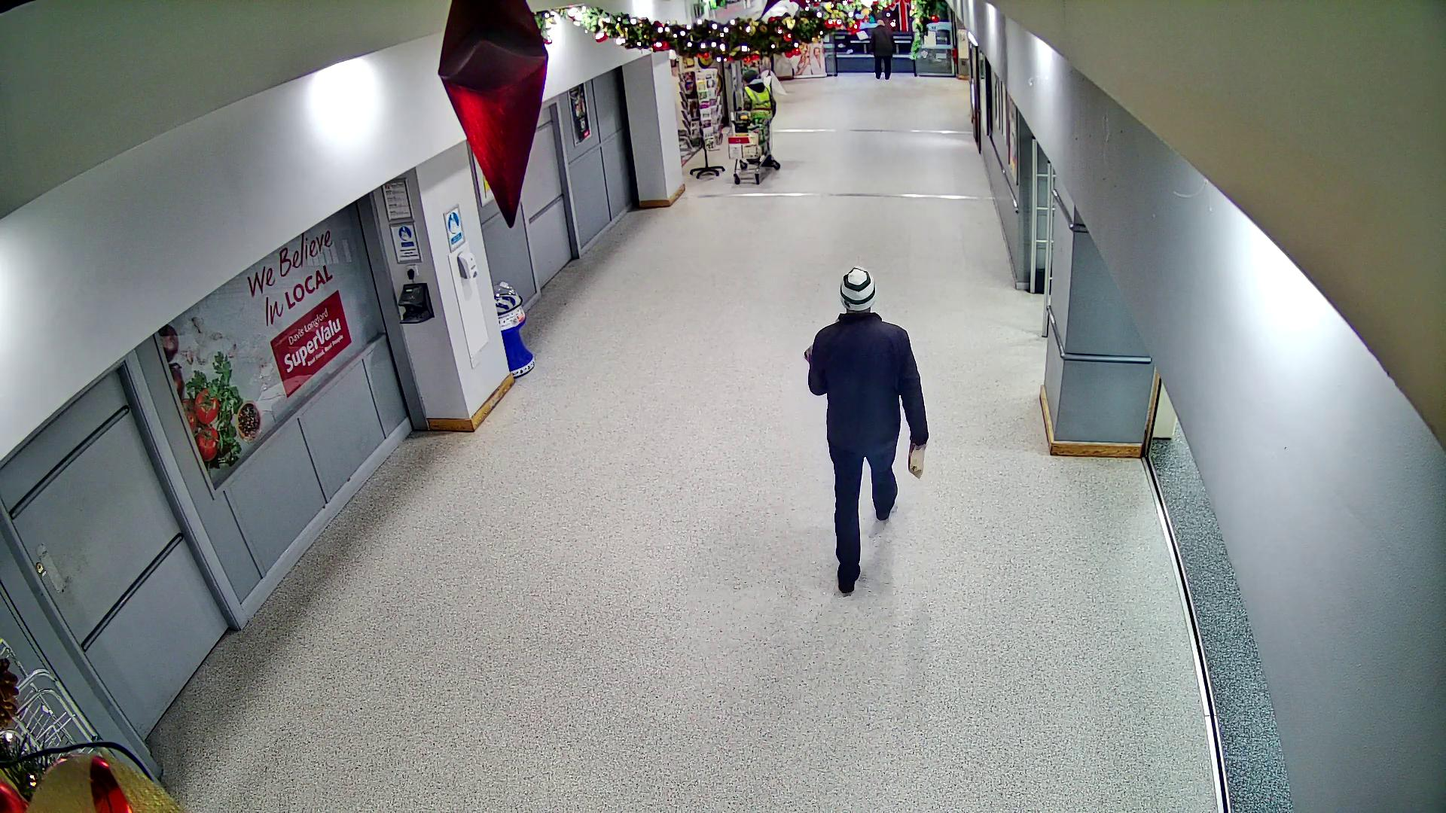carrying-item: (905, 437, 929, 478)
person: (806, 266, 931, 594)
person-with-carrying-item: (807, 265, 930, 592)
